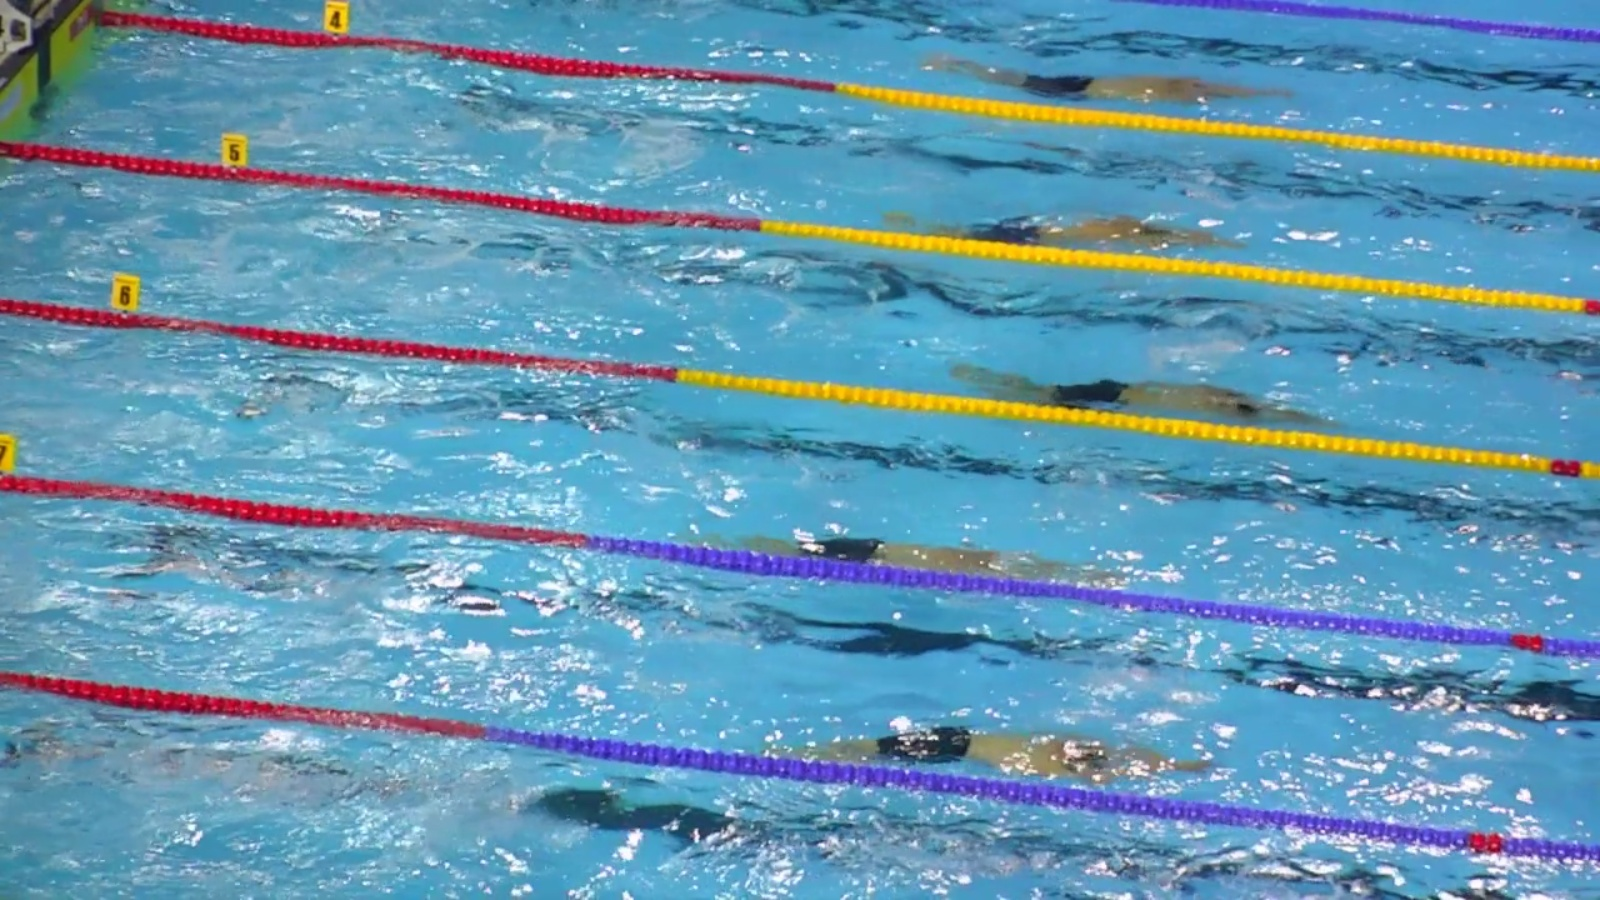swimmerw: (762, 725, 1219, 789), (951, 360, 1331, 427), (925, 49, 1303, 115), (722, 527, 1111, 588), (878, 205, 1246, 262)
